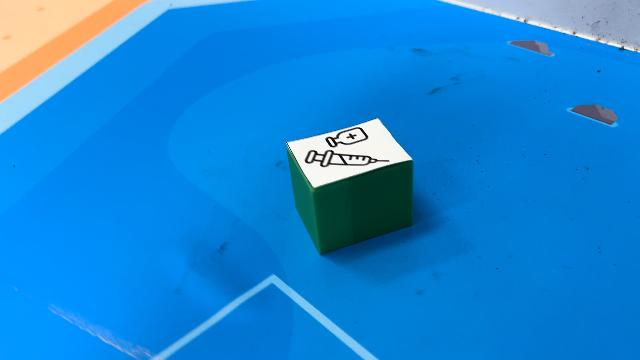syringe: (286, 117, 414, 255)
